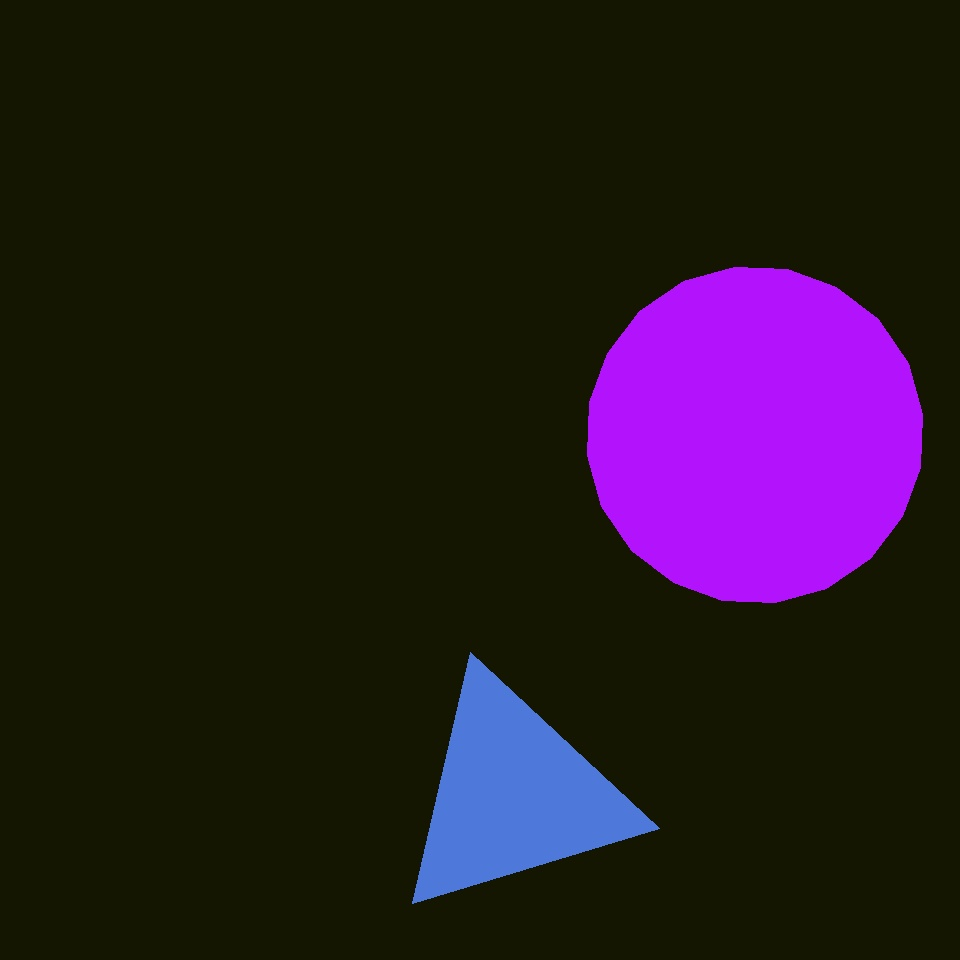circle: (390, 670, 638, 920), (217, 292, 363, 445)
square: (598, 721, 788, 911)
triangle: (588, 268, 922, 602), (176, 596, 396, 817)
